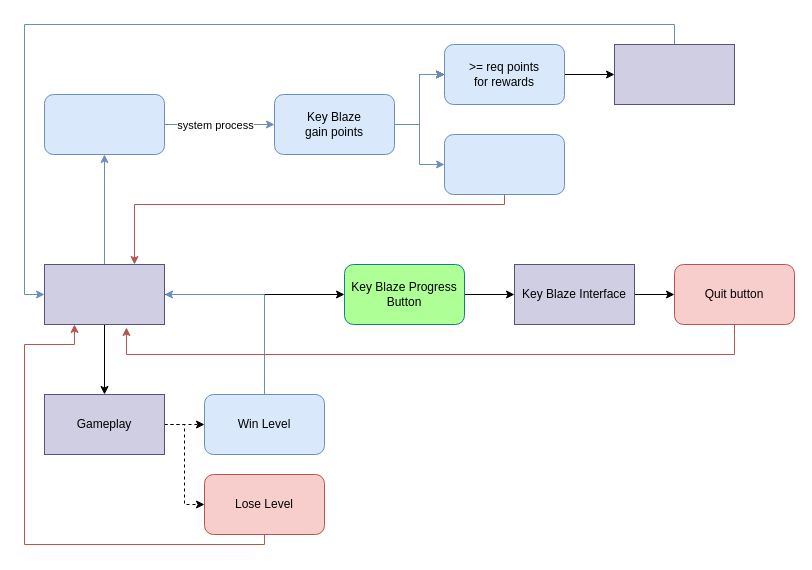
The diagram is 812 pixels wide and 570 high, and some of its shapes have lost their labels. The centre of each missing label's shape, as x and y in pixels:
< req points for rewards: (504,164)
Home Interface: (104,294)
Pop Up Key Blaze: (104,124)
Reward interface: (674,74)
